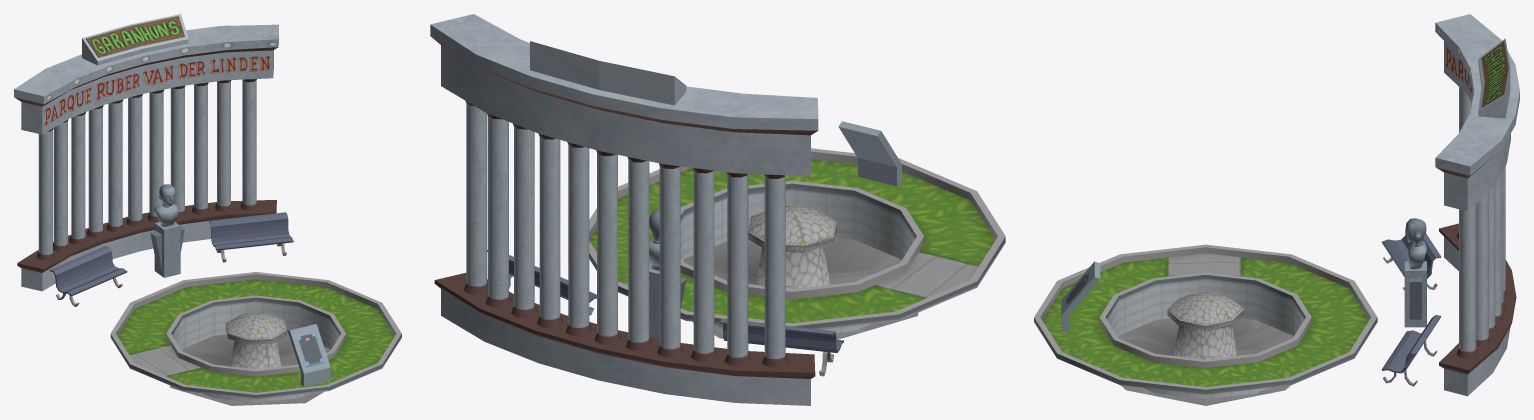
Rendered from MonumentoPauPombo_Joined.fbx.
The picture shows the model from 3 angles, left to right: view 1: azimuth 30°, elevation 25°; view 2: azimuth 150°, elevation 25°; view 3: azimuth 270°, elevation 25°; orthographic projection. The views are drawn at different scales.
Visible parts, largest first — view 1: Monumento_Joined; view 2: Monumento_Joined; view 3: Monumento_Joined.
Part boxes in pixels (<box>): Monumento_Joined: <box>14,14,401,405</box>; Monumento_Joined: <box>430,14,1005,405</box>; Monumento_Joined: <box>1034,14,1519,405</box>.
Size of the model in its own units: 460 by 410 by 620.
